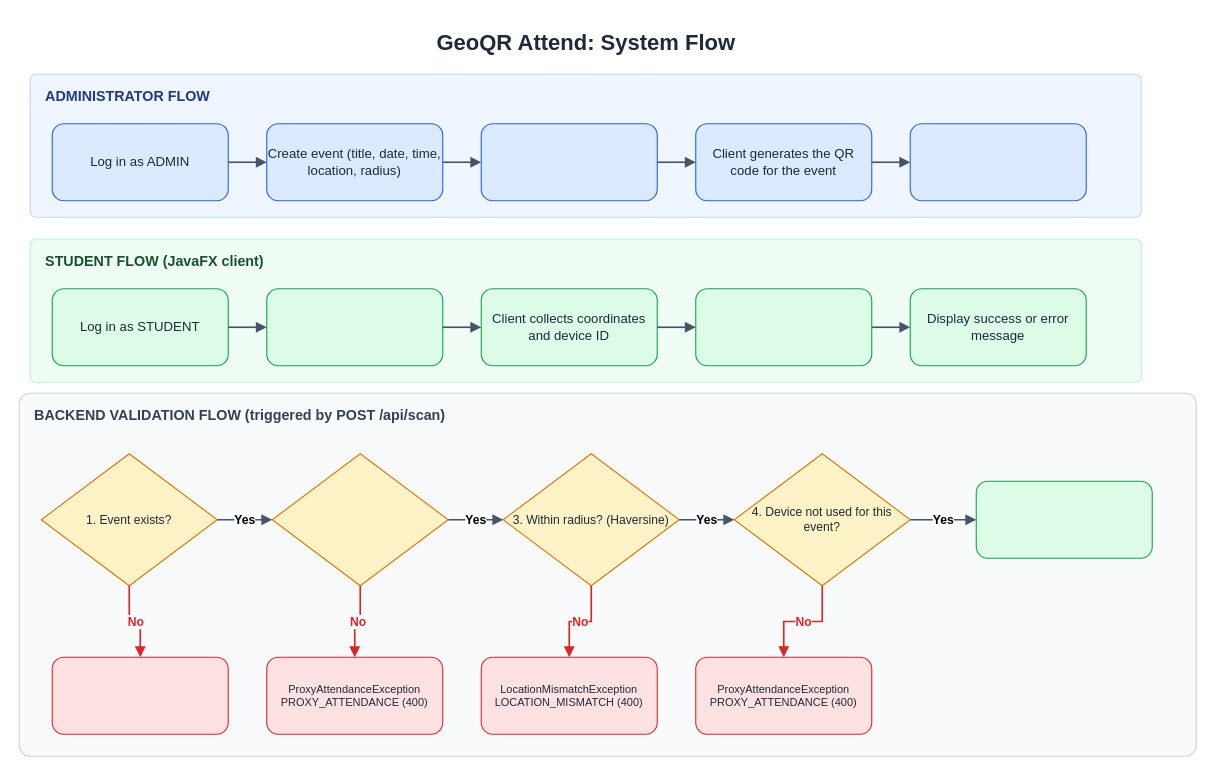
Some shapes in this 1216 by 776 pixel diagram are drawn without their labels. Here are the shapes that lost their labels. From the top down, the centre of each, then its label:
At [568,162]: "Backend stores event and returns the event ID".
At [997,162]: "Administrator shows the QR code to students".
At [354,327]: "Enter the event identifier".
At [783,327]: "Send POST /api/scan to the backend".
At [359,519]: "2. Student not already marked?".
At [1063,519]: "Store attendance record and return SUCCESS".
At [139,695]: "ResourceNotFoundException NOT_FOUND (404)".
